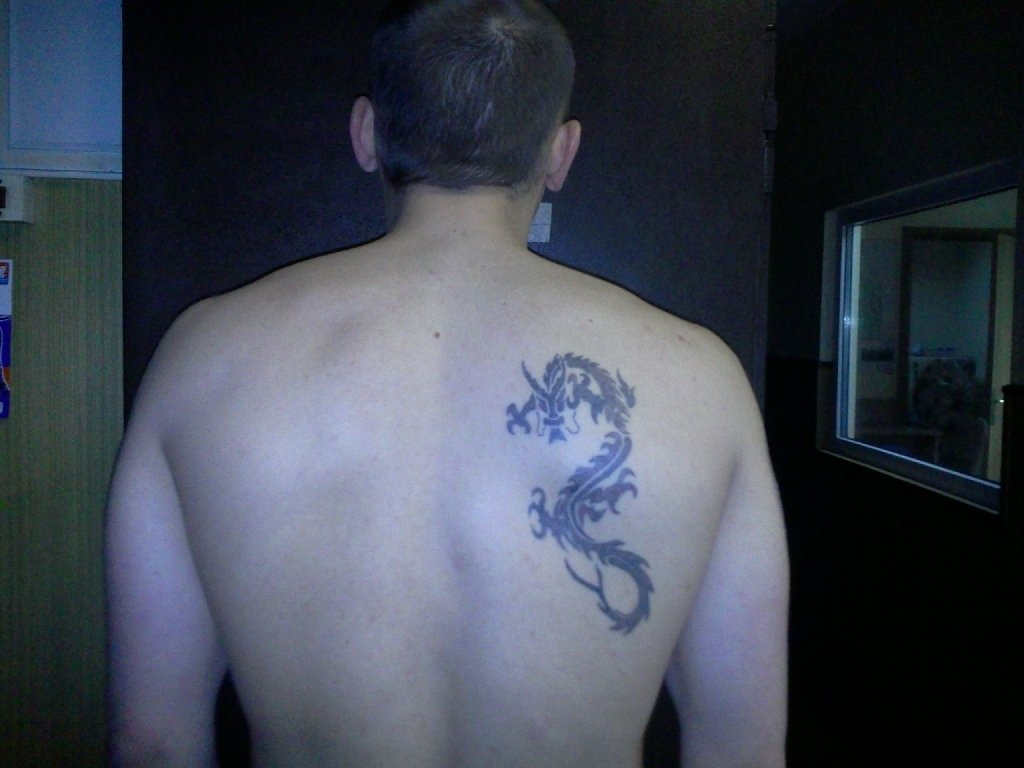tatu3_bukva: (498, 344, 713, 654)
